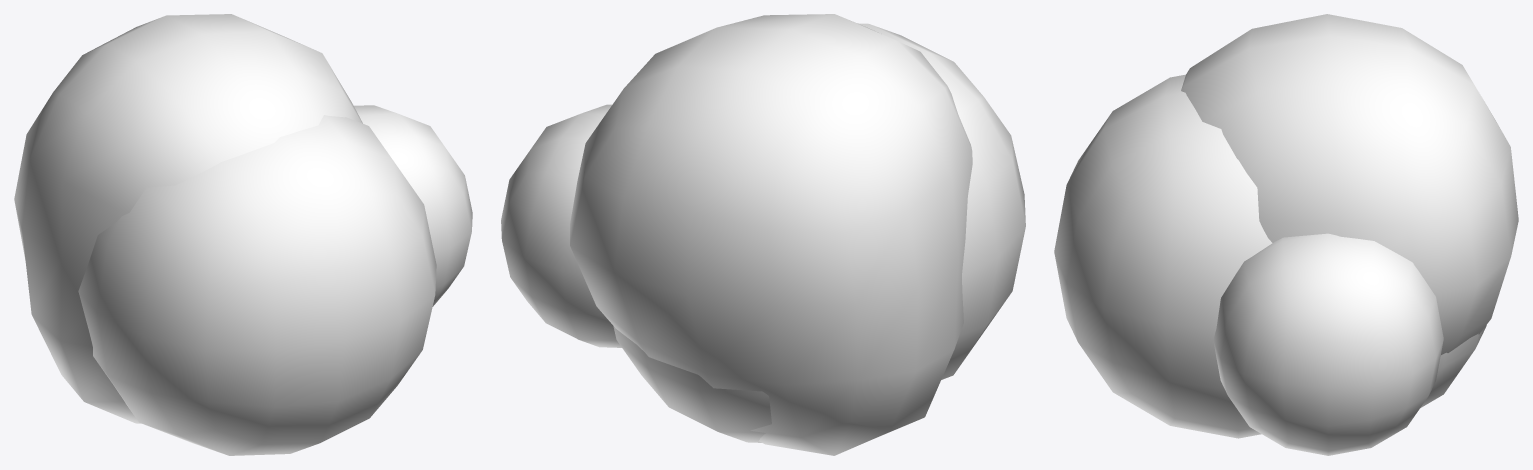
The model's file is Longbo.fbx.
3 views of the same model, side by side, from view 1: azimuth 30°, elevation 25°; view 2: azimuth 150°, elevation 25°; view 3: azimuth 270°, elevation 25° (orthographic). The views are drawn at different scales.
Parts seen in each view (by area): view 1: Longbo, Longbo4, Longbo1; view 2: Longbo4, Longbo1, Longbo; view 3: Longbo4, Longbo, Longbo1.
Boxes of the visible parts, x1,y1,x2,y2 form: Longbo: (78,115,436,455); Longbo4: (14,14,362,423); Longbo1: (354,105,472,306); Longbo4: (570,14,972,455); Longbo1: (501,104,771,442); Longbo: (858,23,1025,379); Longbo4: (1181,14,1518,354); Longbo: (1054,74,1272,438); Longbo1: (1213,233,1486,455).
Bounding box in the file's own units: 39.23 × 34.59 × 38.41.
